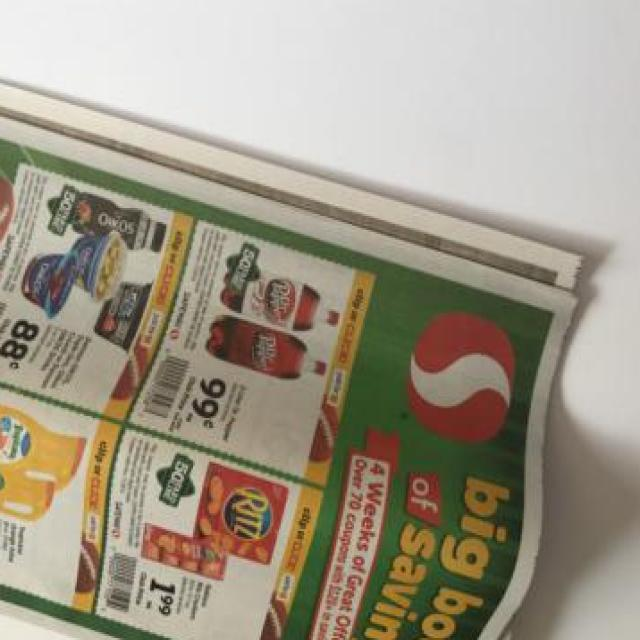organic: (5, 68, 610, 583)
